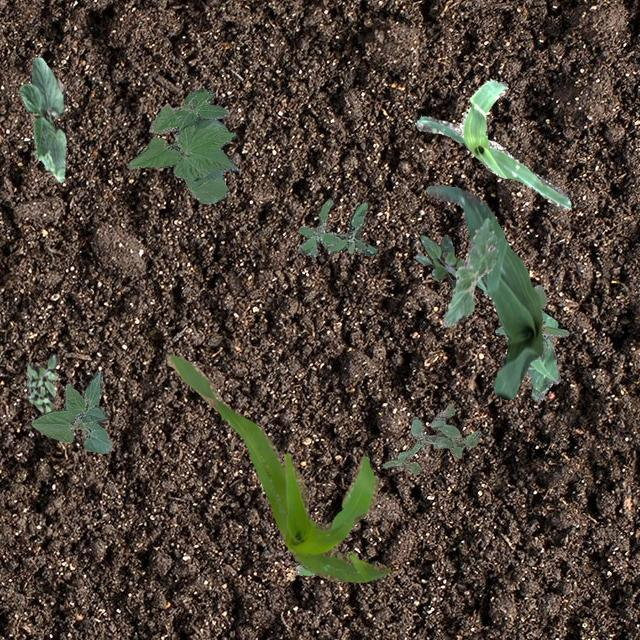crop: (166, 354, 390, 582), (424, 184, 542, 398), (414, 78, 570, 208), (126, 88, 236, 202), (476, 276, 560, 402), (30, 369, 111, 452), (18, 56, 66, 180), (442, 217, 496, 326)
weed: (380, 403, 480, 472), (494, 284, 568, 354), (298, 196, 374, 256), (414, 233, 464, 290), (24, 352, 58, 413), (292, 564, 328, 574)
